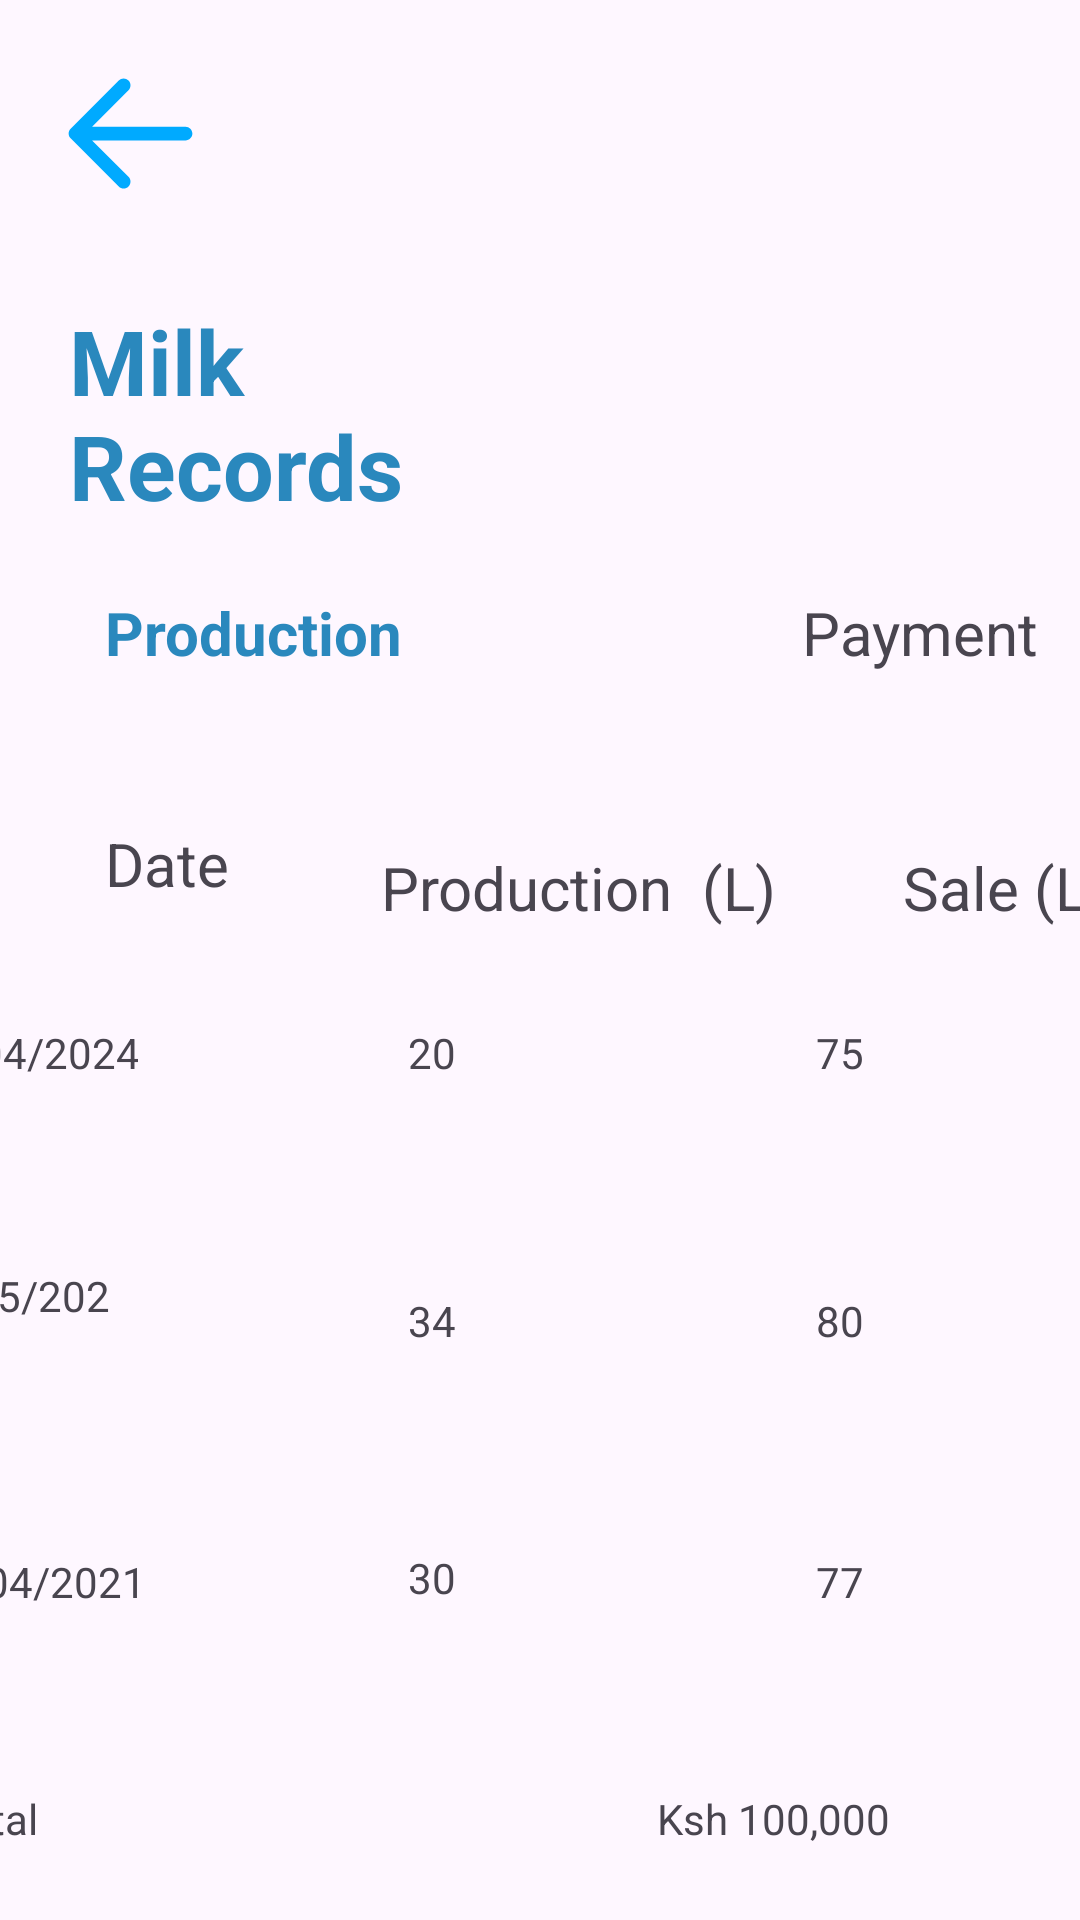

Icon click points for this 1080×1920 phone screenshot, format point (x, y):
arrow: point (130, 133)
